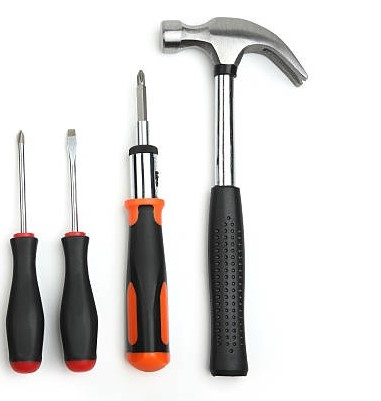hammer: (159, 14, 310, 382)
screwdriver: (121, 65, 172, 372), (5, 126, 46, 375), (58, 125, 99, 373)
